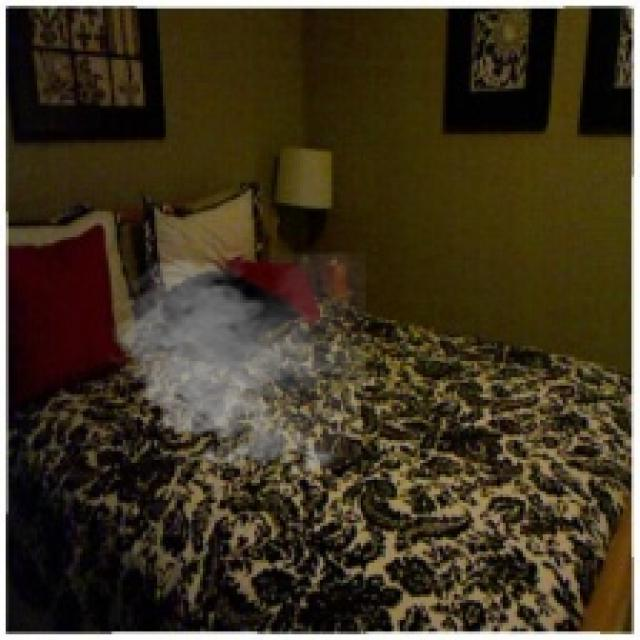smoke: (103, 251, 366, 480)
